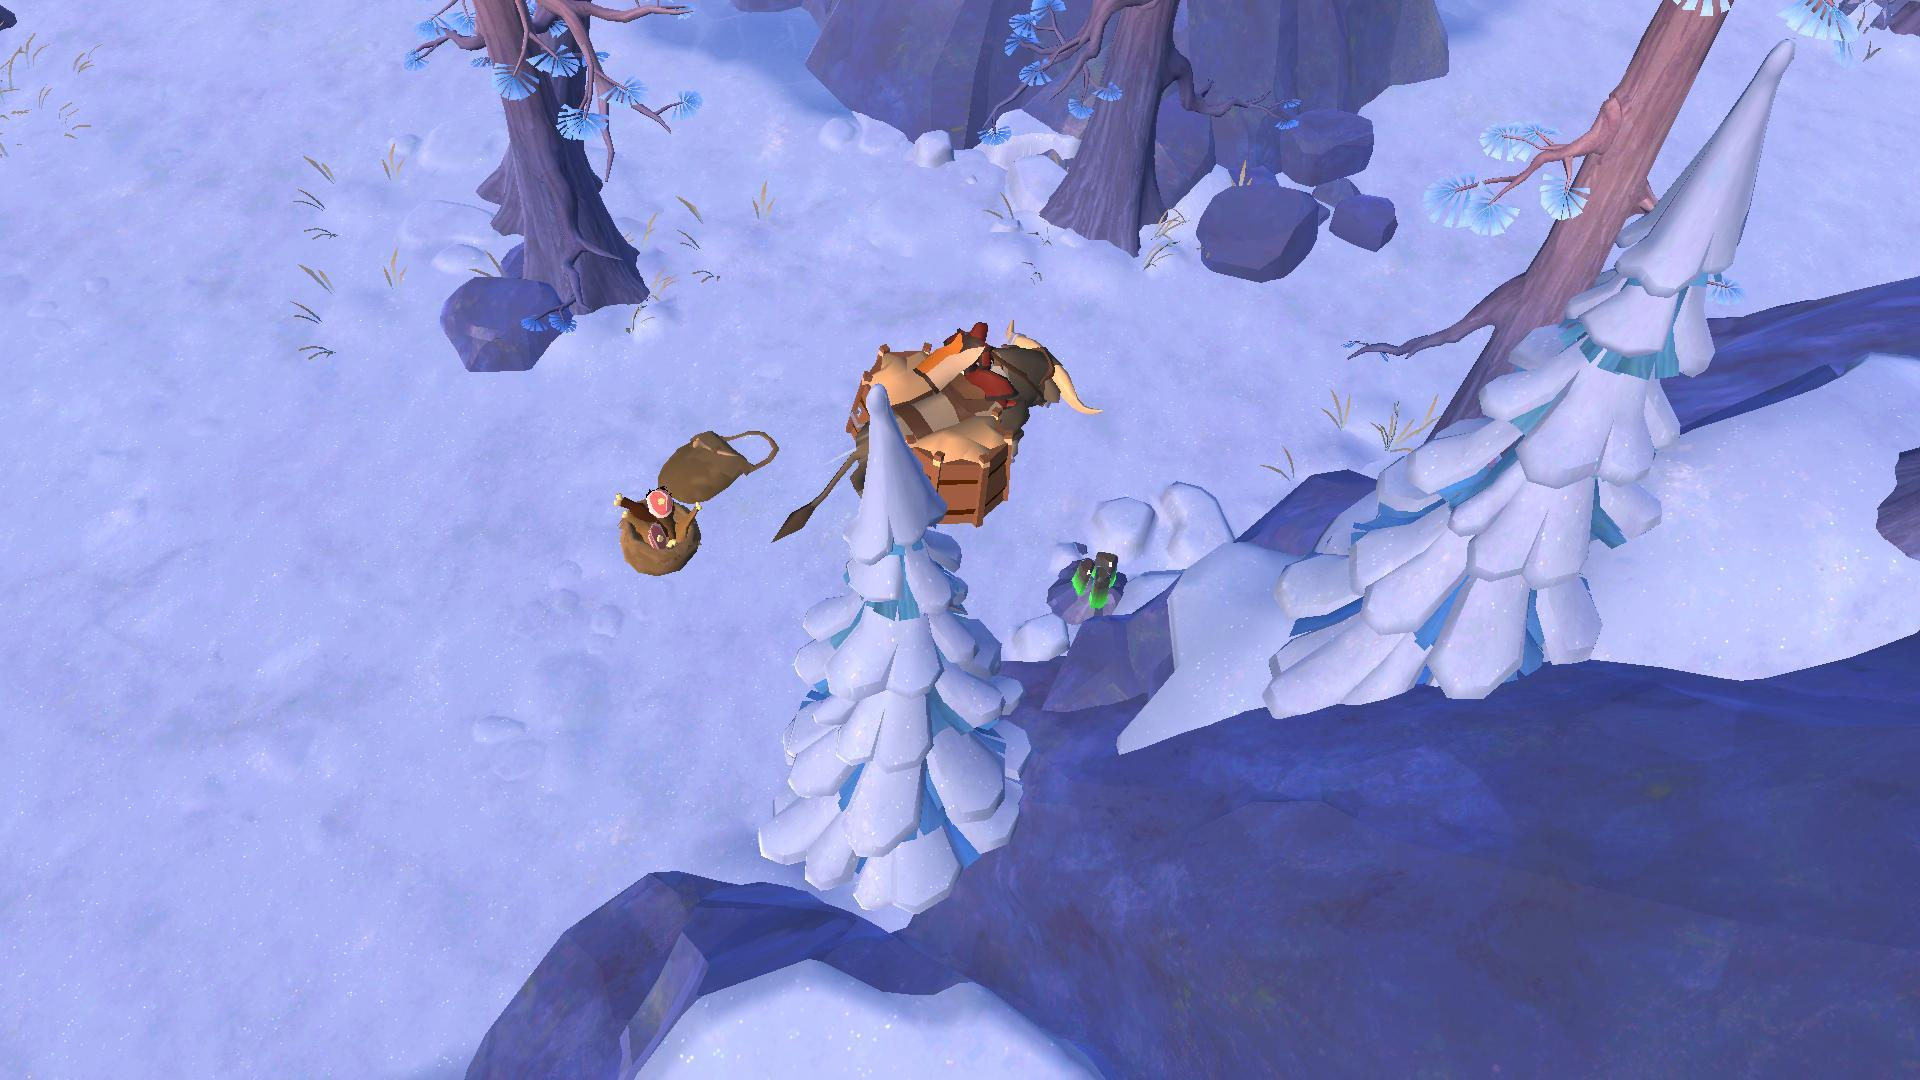ore_t3: (1072, 545, 1124, 612)
